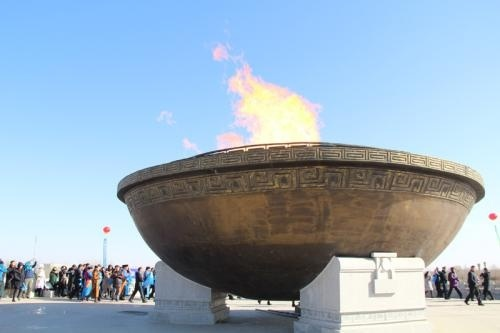fire: (212, 41, 325, 149), (182, 135, 201, 153), (156, 109, 176, 126)
